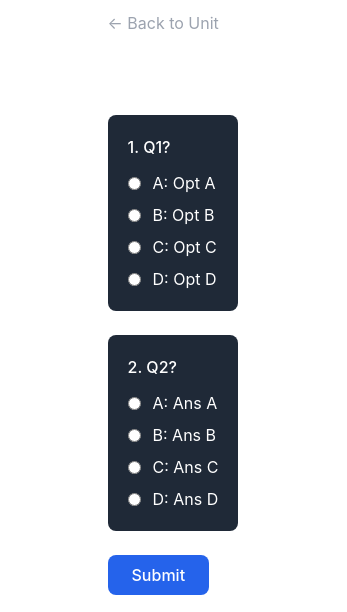
it: UnitTestPage › submits and shows passed result
Expected: the text "Q1?" is shown, top-left (143, 137), bottom-right (170, 157)
Click the button "Submit" at (158, 575), box top-left (108, 555), bottom-right (209, 595)
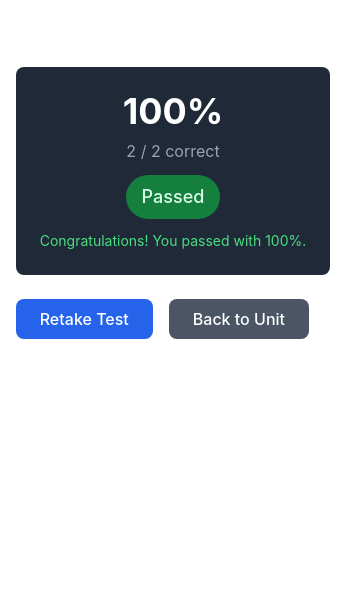
Now the text "100%" is shown, box top-left (123, 89), bottom-right (223, 133)
Now the text "Passed" is shown, box top-left (126, 175), bottom-right (220, 219)
Now the text "Congratulations! You passed with 100%." is shown, box top-left (40, 231), bottom-right (306, 251)
